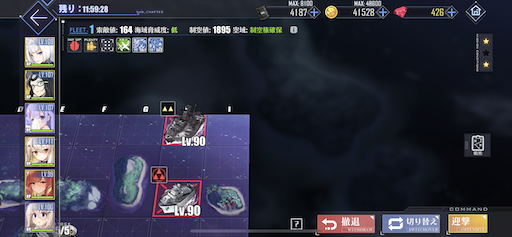lv2: (159, 98, 205, 146)
lv3: (150, 166, 200, 216)
